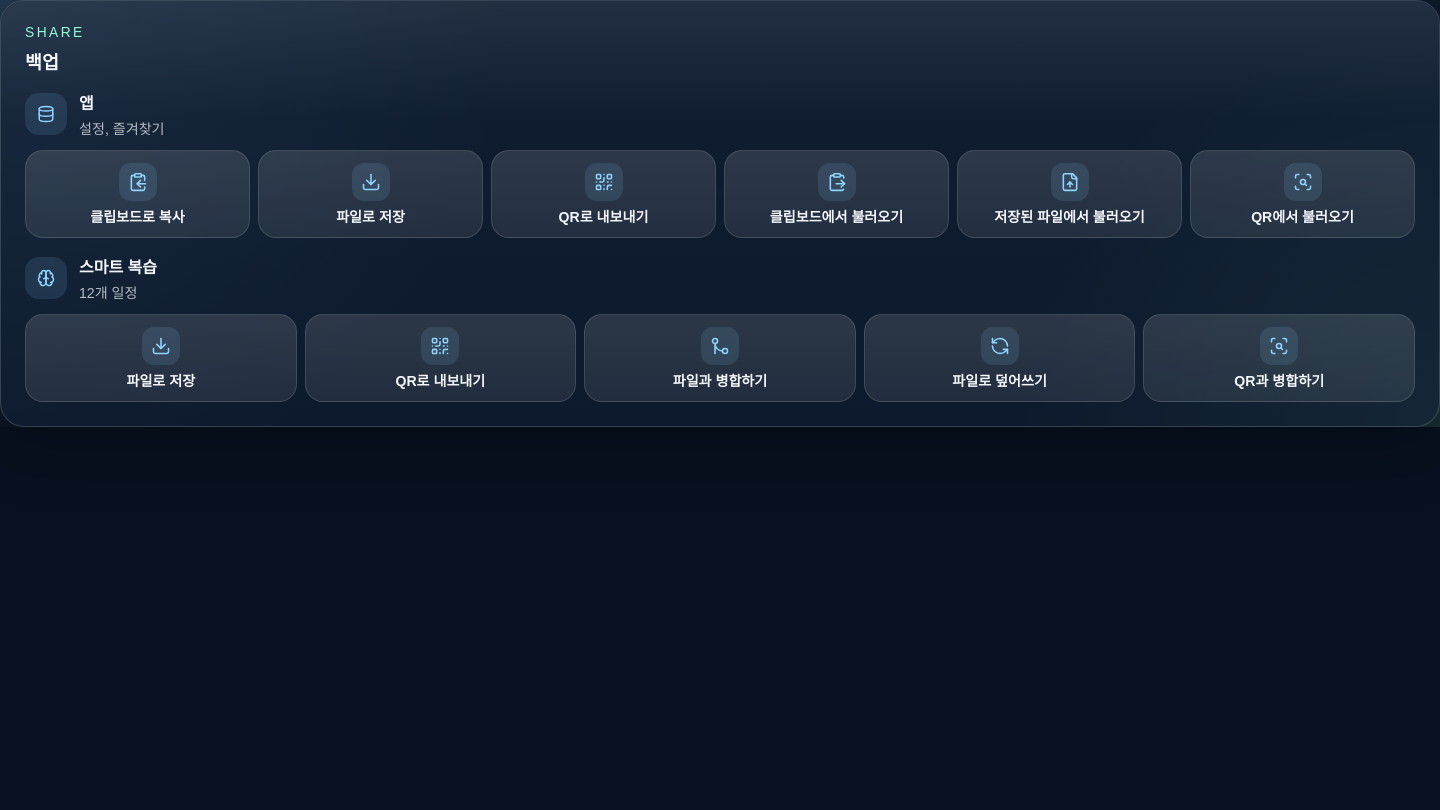
Scenario: SharePanel › uses an in-app confirm modal for restore actions
This screenshot has width=1440, height=810.
Expected: the text "12개 일정" is shown, [79, 285, 138, 301]
Click the button with aria-label "앱 클립보드에서 불러오기" at (836, 194), box [724, 150, 949, 238]
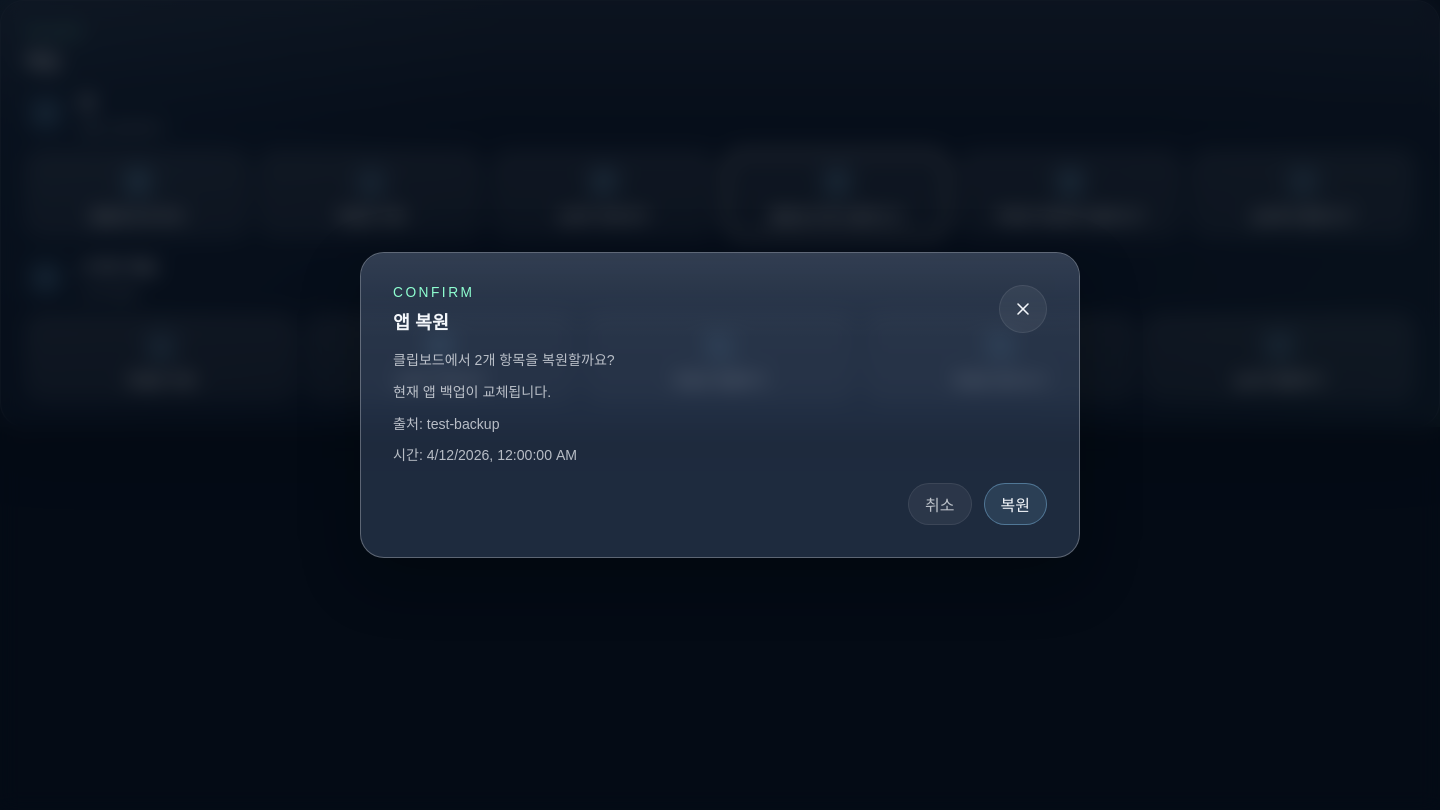
Now the dialog is shown
Now the heading "앱 복원" is shown, box [393, 312, 449, 333]
Now the text "클립보드에서 2개 항목을 복원할까요?" is shown, box [393, 352, 615, 368]
